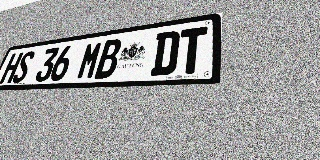3: (34, 47, 60, 82)
6: (48, 45, 75, 81)
B: (94, 38, 123, 79)
D: (150, 30, 181, 76)
H: (0, 52, 24, 84)
M: (76, 41, 104, 80)
S: (11, 50, 36, 83)
T: (176, 26, 207, 74)
